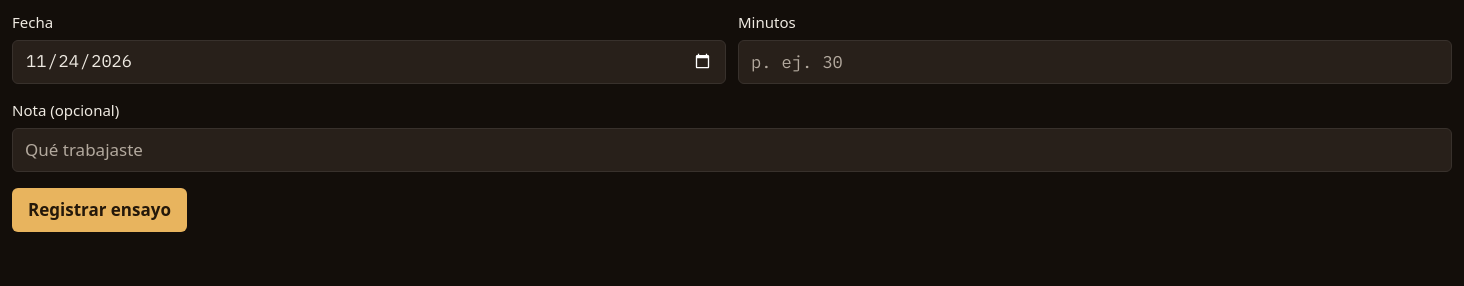
Test: RehearsalForm › envía el ensayo y confirma que se registró
This screenshot has width=1464, height=286.
Type "45" into the number field labelled "Minutos". click: point(1095, 62)
box: [738,40,1452,84]
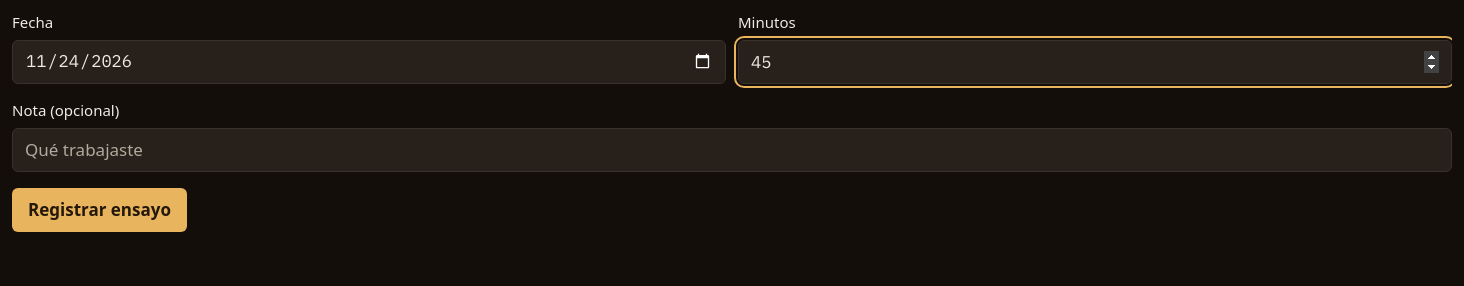
Type "Fiato en el da capo" into the field labelled "Nota (opcional)". click: point(732, 150)
box: [12,128,1452,172]
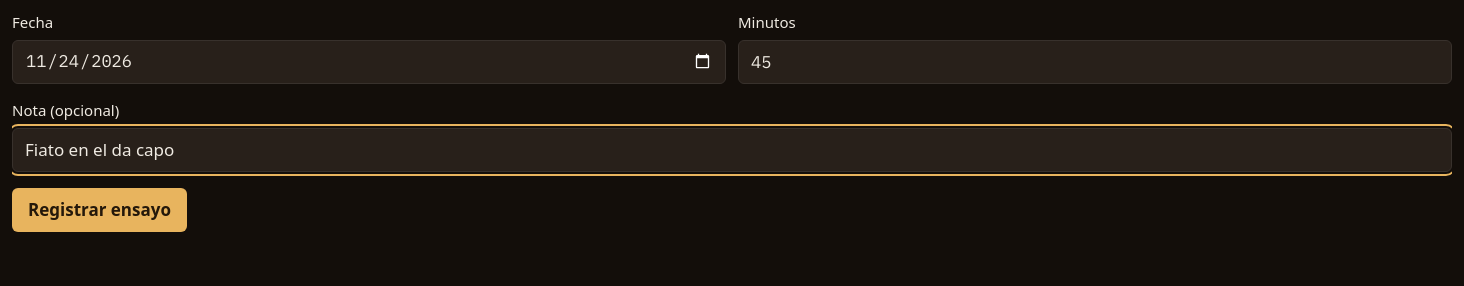
Click the button "Registrar ensayo". click: point(100, 210)
box: [12,188,187,232]
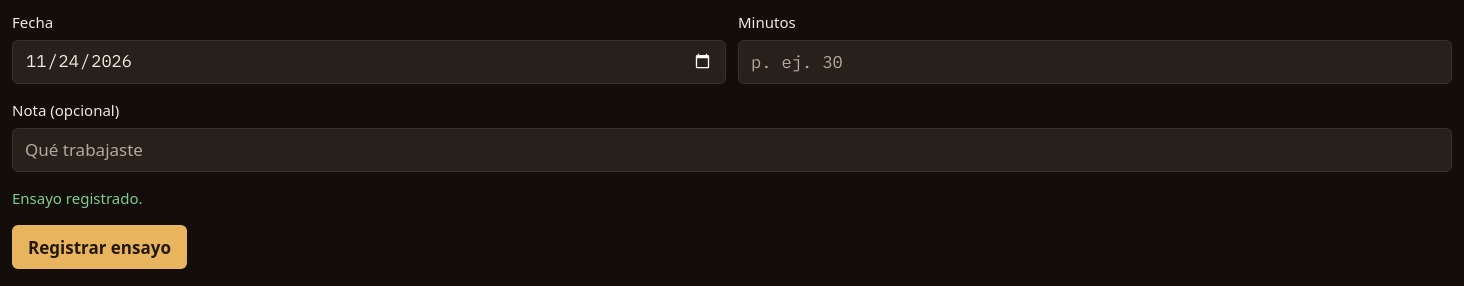
Now the message reads "Ensayo registrado.", box [12,188,142,208]
